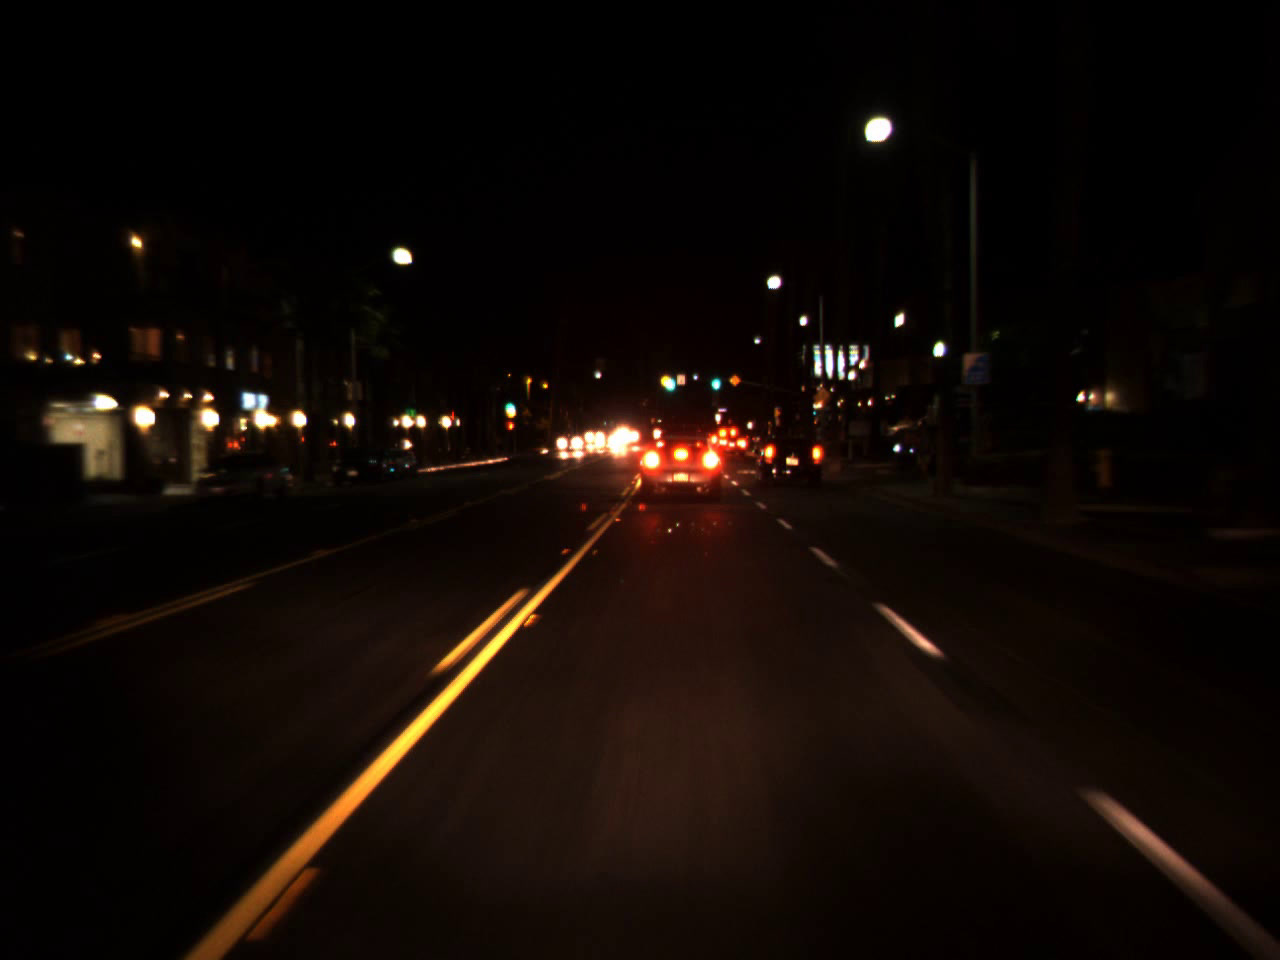go: (708, 368, 722, 392), (664, 365, 674, 392), (504, 398, 514, 410)
